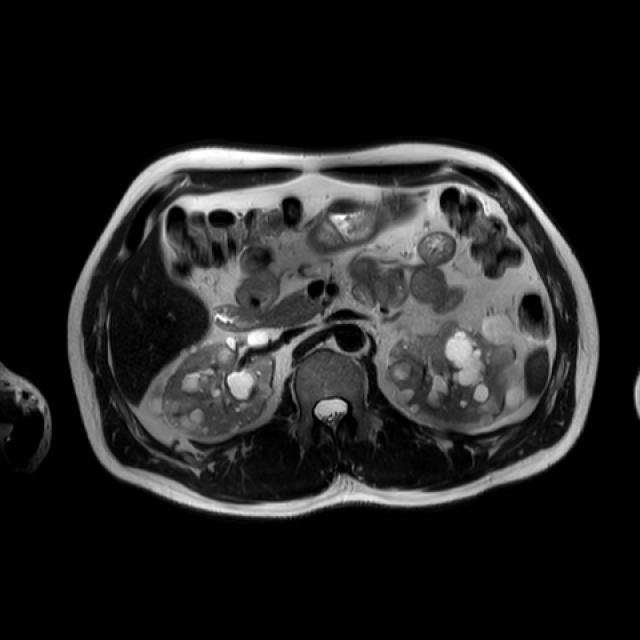sag: (158, 329, 277, 438)
sol: (385, 313, 525, 426)
